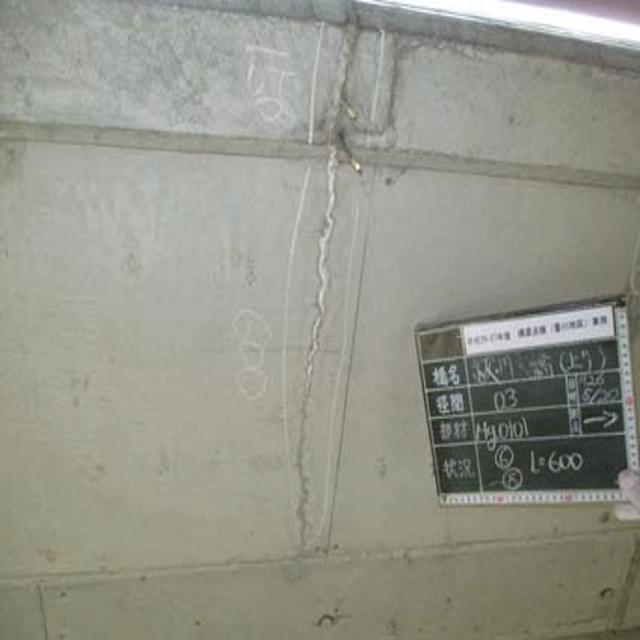freelime: (291, 117, 370, 550)
